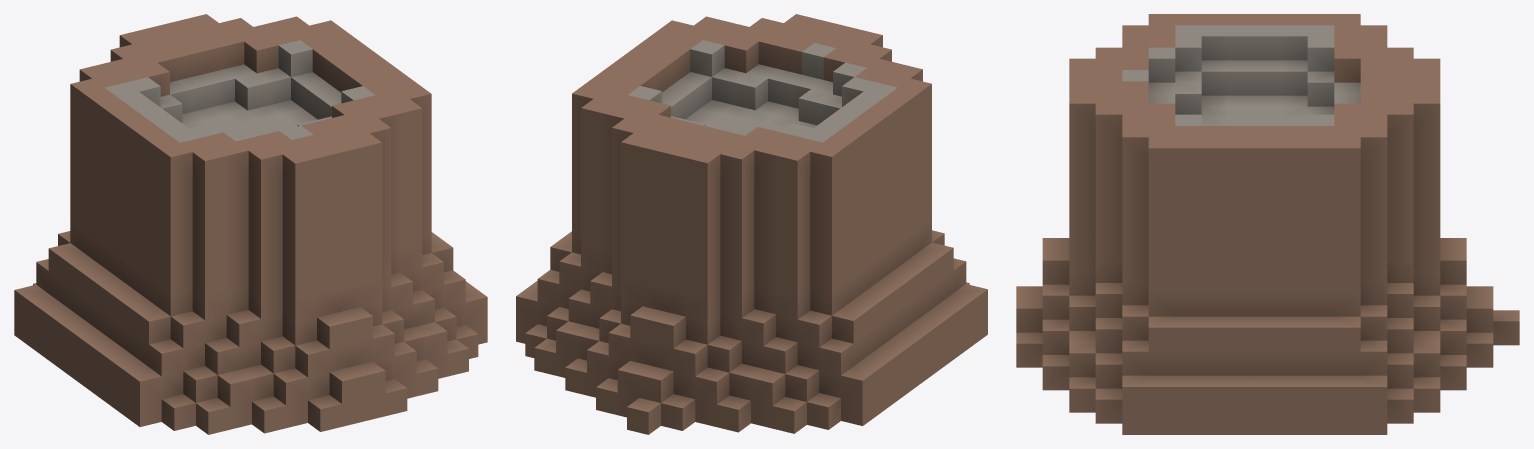
File: stump.glb
The picture shows the model from 3 angles, left to right: view 1: azimuth 30°, elevation 25°; view 2: azimuth 150°, elevation 25°; view 3: azimuth 270°, elevation 25°; orthographic projection. The views are drawn at different scales.
Visible parts, largest first — view 1: voxels; view 2: voxels; view 3: voxels.
Part boxes in pixels (bbox=[...]): voxels: bbox=[14, 14, 487, 434]; voxels: bbox=[516, 14, 987, 434]; voxels: bbox=[1016, 14, 1519, 434].
Bounding box in the file's own units: 0.3304 × 0.2271 × 0.3923.
